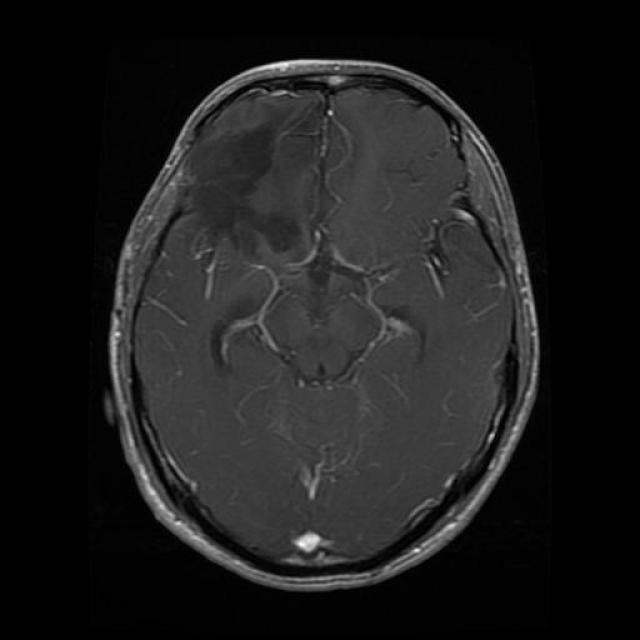Brain-Tumor: (170, 72, 342, 278)
